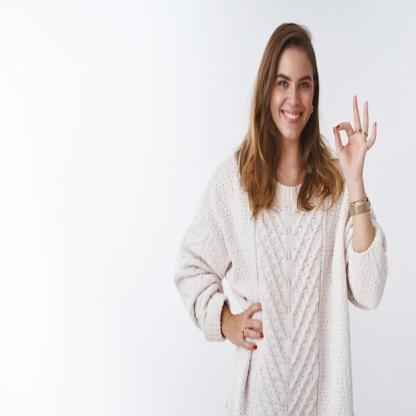ok: (330, 92, 379, 184)
